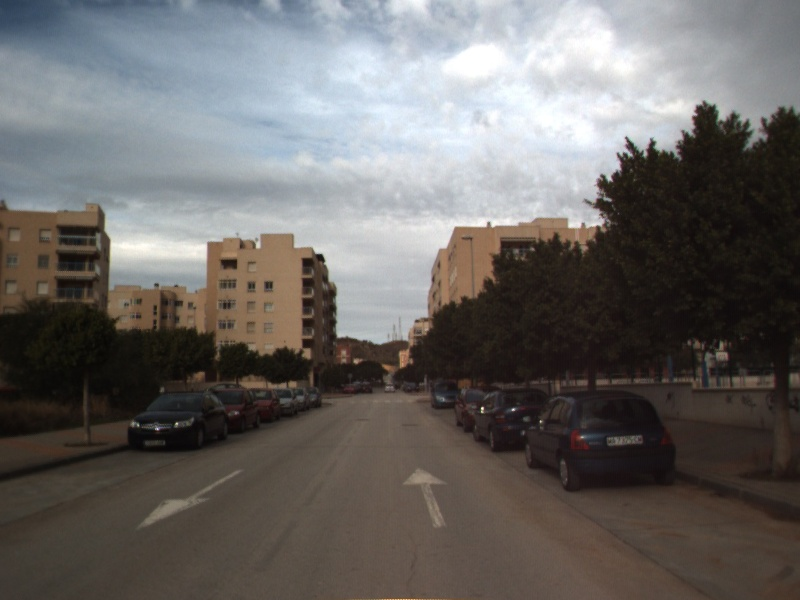STRAIGHT: (400, 465, 450, 529)
